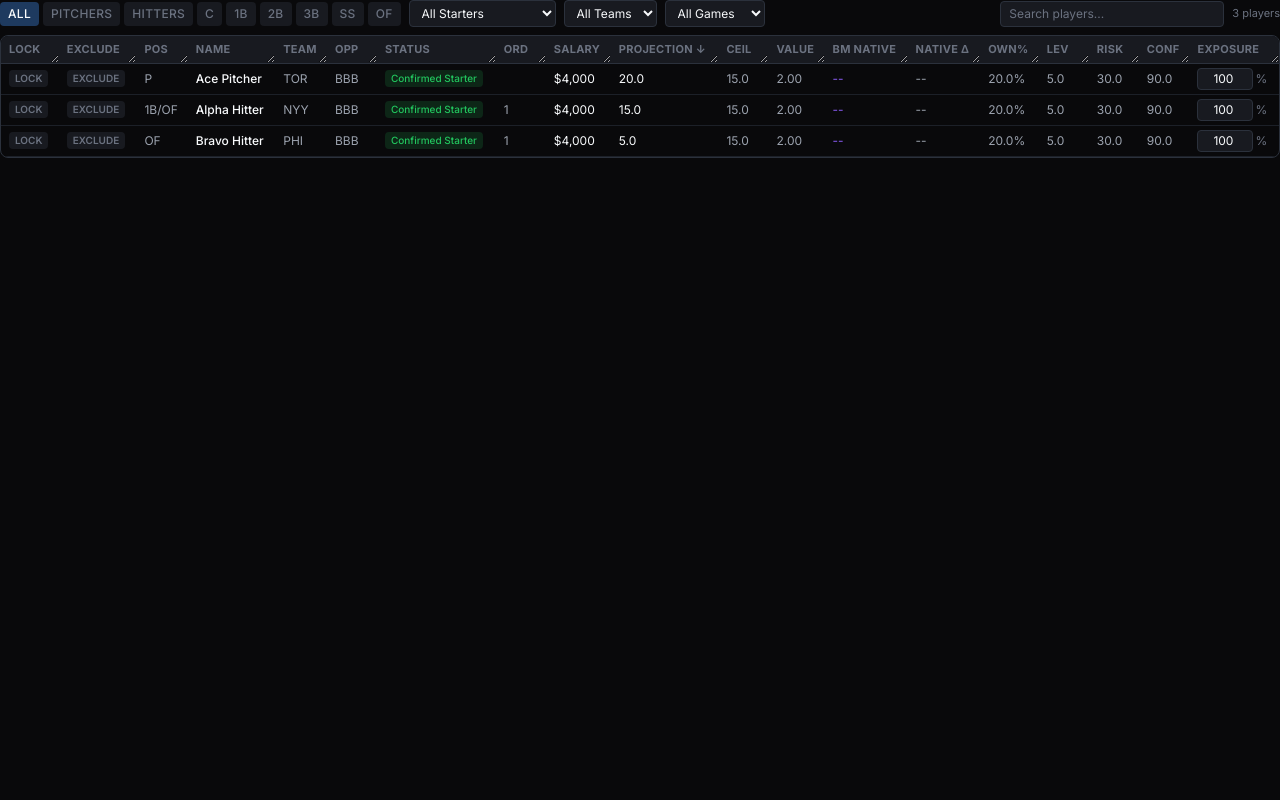
it: PoolTable › the detail modal shows a plain message when a player has no external projection data
What coordinates should you click on to do the following:
click the button "Bravo Hitter"
I would click on:
 (230, 141)
Its box is [196,133,264,149].
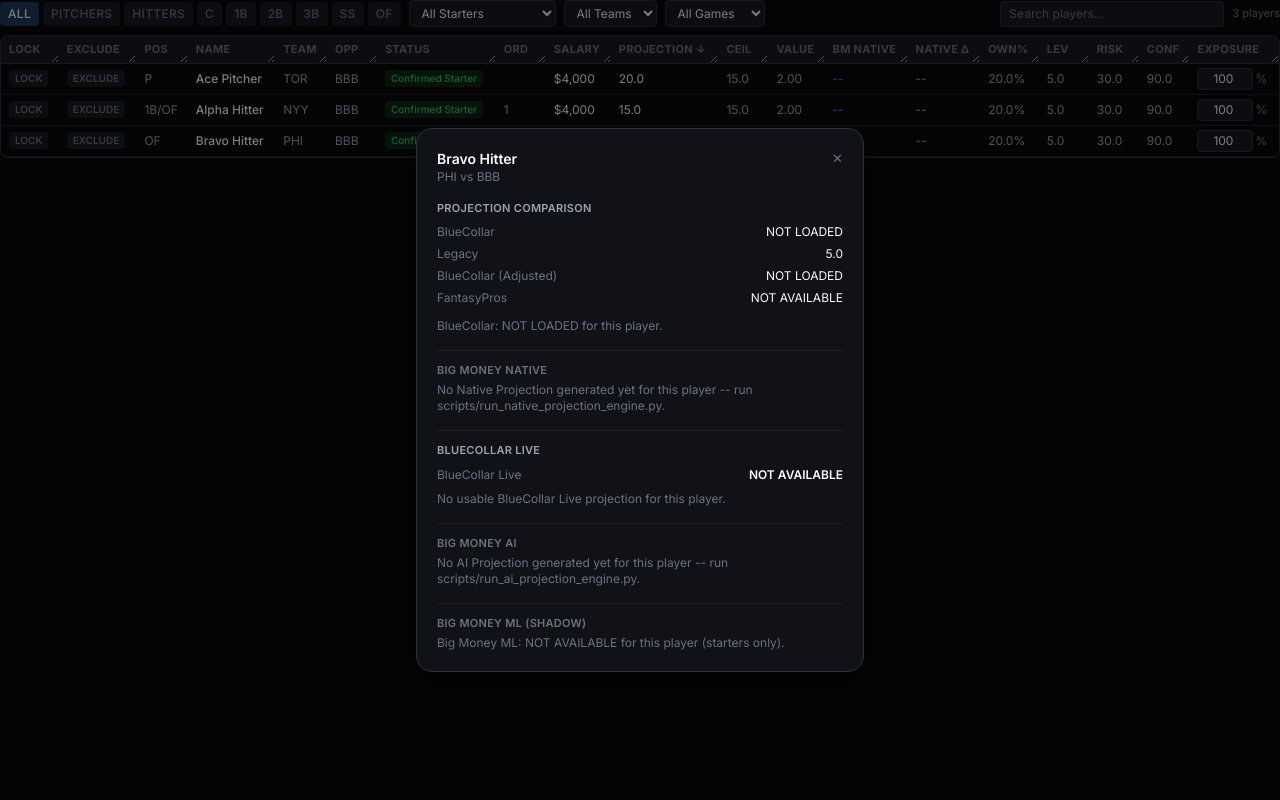
Expected: the text "BlueCollar: NOT LOADED for this player." is shown, [437,318,662,333]
